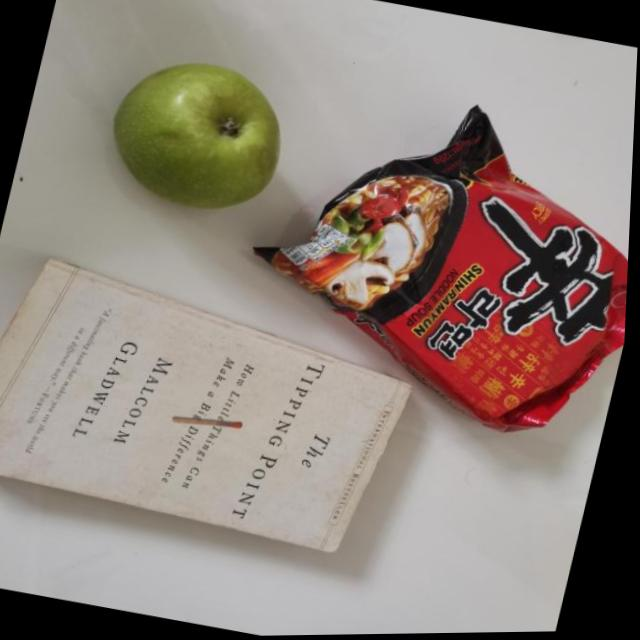Apple: (96, 46, 301, 224)
Book: (0, 242, 434, 570)
